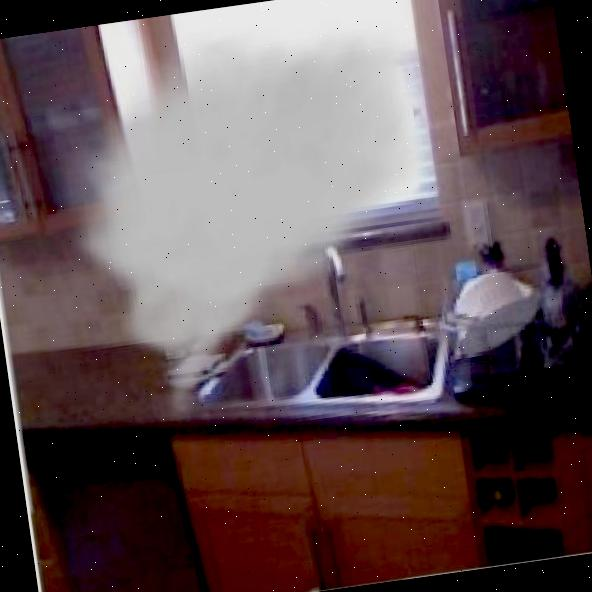smoke: (79, 16, 456, 396)
